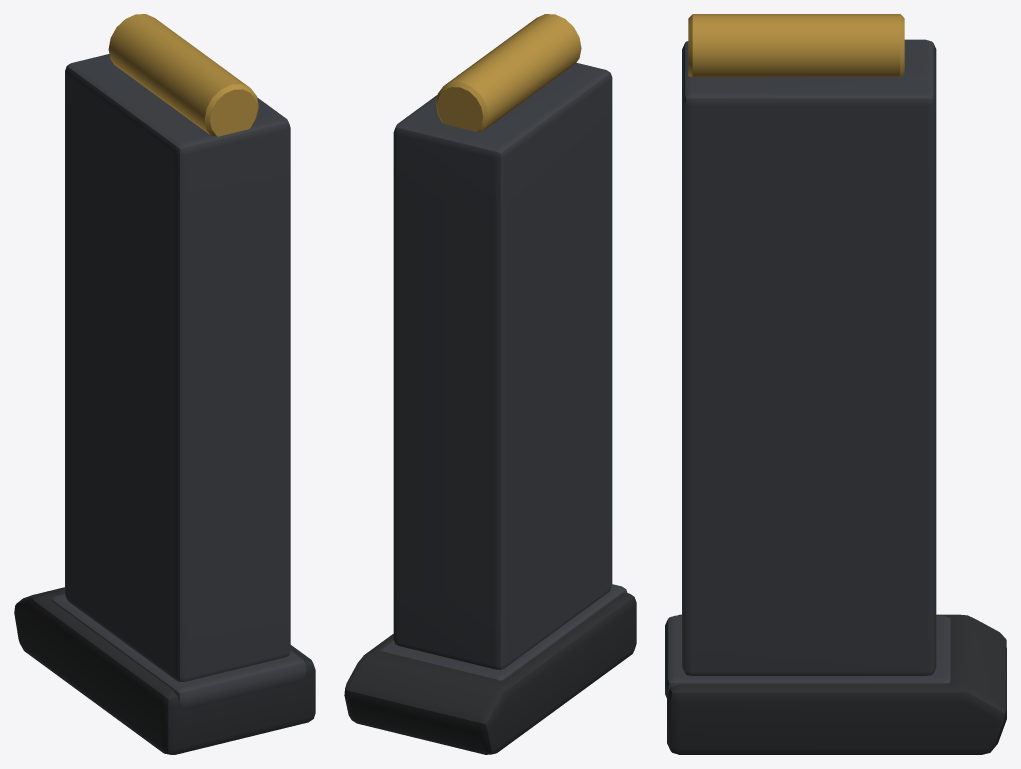
The model's file is mod_wren_standard_mag.glb.
The picture shows the model from 3 angles, left to right: view 1: azimuth 30°, elevation 25°; view 2: azimuth 150°, elevation 25°; view 3: azimuth 270°, elevation 25°; orthographic projection. The views are drawn at different scales.
Visible parts, largest first — view 1: Magazine, MagazinePad, MagazineRound; view 2: Magazine, MagazinePad, MagazineRound; view 3: Magazine, MagazinePad, MagazineRound.
Part boxes in pixels (<box>): Magazine: <box>51,54,306,709</box>; MagazinePad: <box>14,587,315,754</box>; MagazineRound: <box>108,14,258,136</box>; Magazine: <box>380,62,627,680</box>; MagazinePad: <box>344,593,636,754</box>; MagazineRound: <box>435,14,581,131</box>; Magazine: <box>665,39,950,697</box>; MagazinePad: <box>667,614,1006,754</box>; MagazineRound: <box>688,14,904,77</box>.
Bounding box in the file's own units: 0.0226 × 0.0914 × 0.0403.
